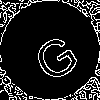G: (25, 25, 82, 85)
